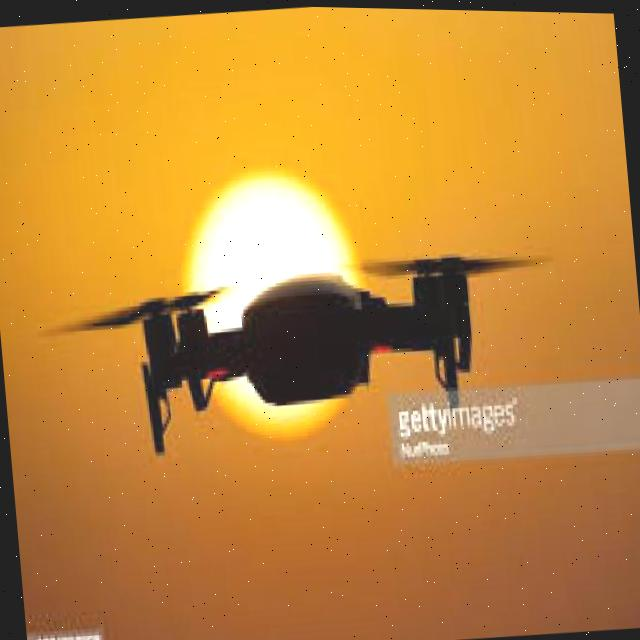drone: (34, 207, 562, 480)
